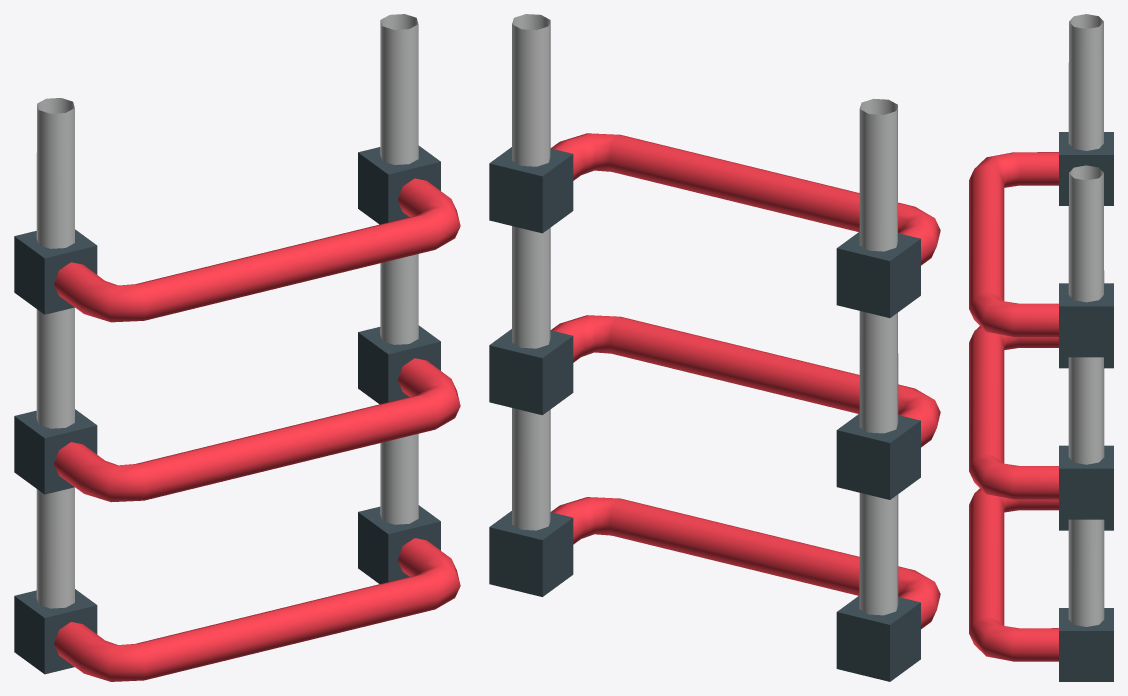
Rendered from Ladder_short_001.fbx.
The picture shows the model from 3 angles, left to right: view 1: azimuth 30°, elevation 25°; view 2: azimuth 150°, elevation 25°; view 3: azimuth 270°, elevation 25°; orthographic projection. The views are drawn at different scales.
Parts seen in each view (by area): view 1: Ladder_short_001; view 2: Ladder_short_001; view 3: Ladder_short_001.
Boxes of the visible parts, x1,y1,x2,y2 form: Ladder_short_001: (14, 14, 460, 681); Ladder_short_001: (489, 14, 940, 681); Ladder_short_001: (969, 14, 1113, 681).
Bounding box in the file's own units: 115 × 40.42 × 153.
